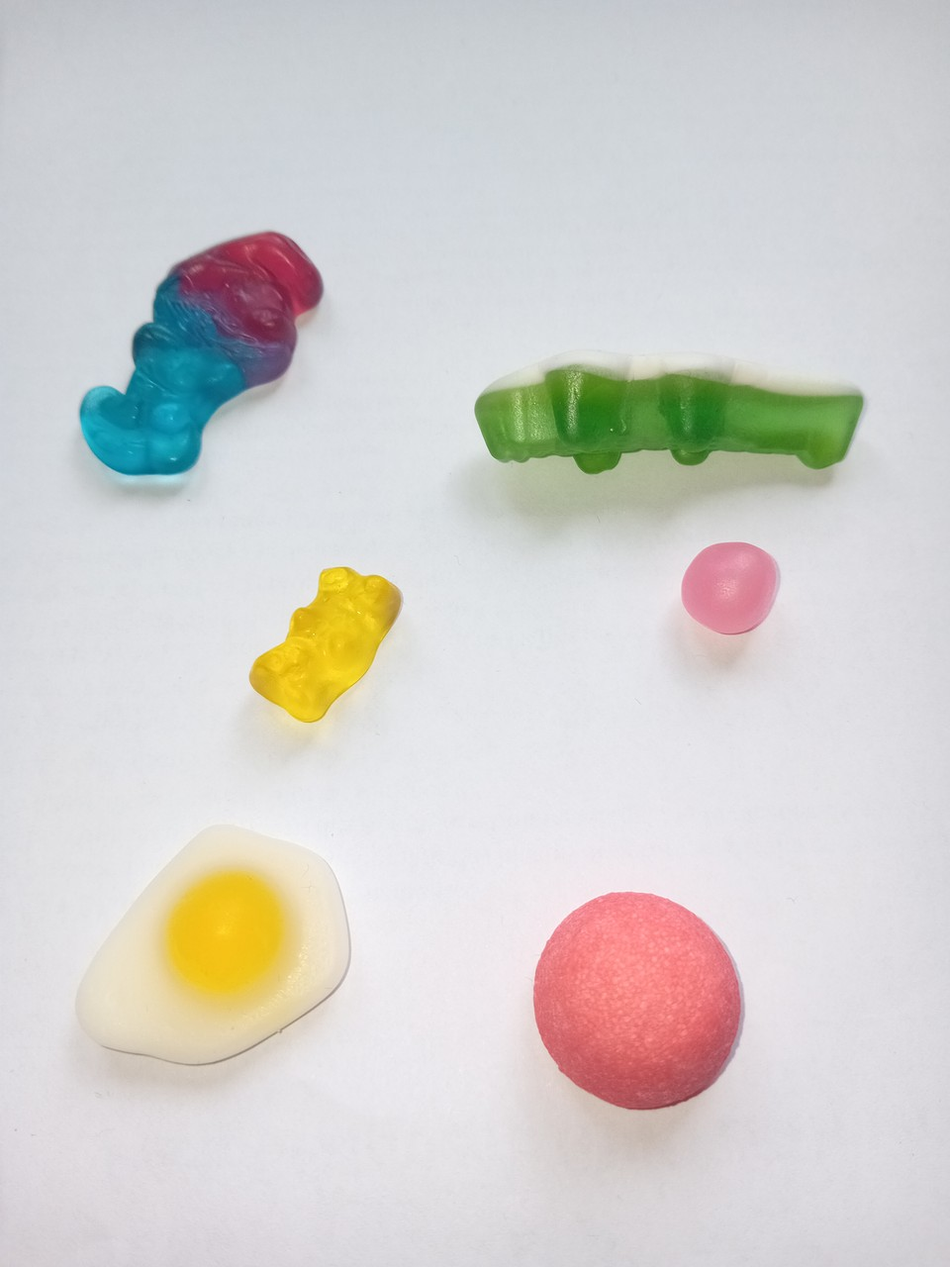crocodile_vert: (461, 340, 874, 491)
dragibus_rose: (671, 535, 784, 639)
oeuf_oeuf: (72, 817, 356, 1078)
ourson_jaune: (239, 562, 408, 729)
schtroumpf_bleu-rouge: (65, 225, 329, 490)
tagada_fraise: (520, 885, 747, 1114)
